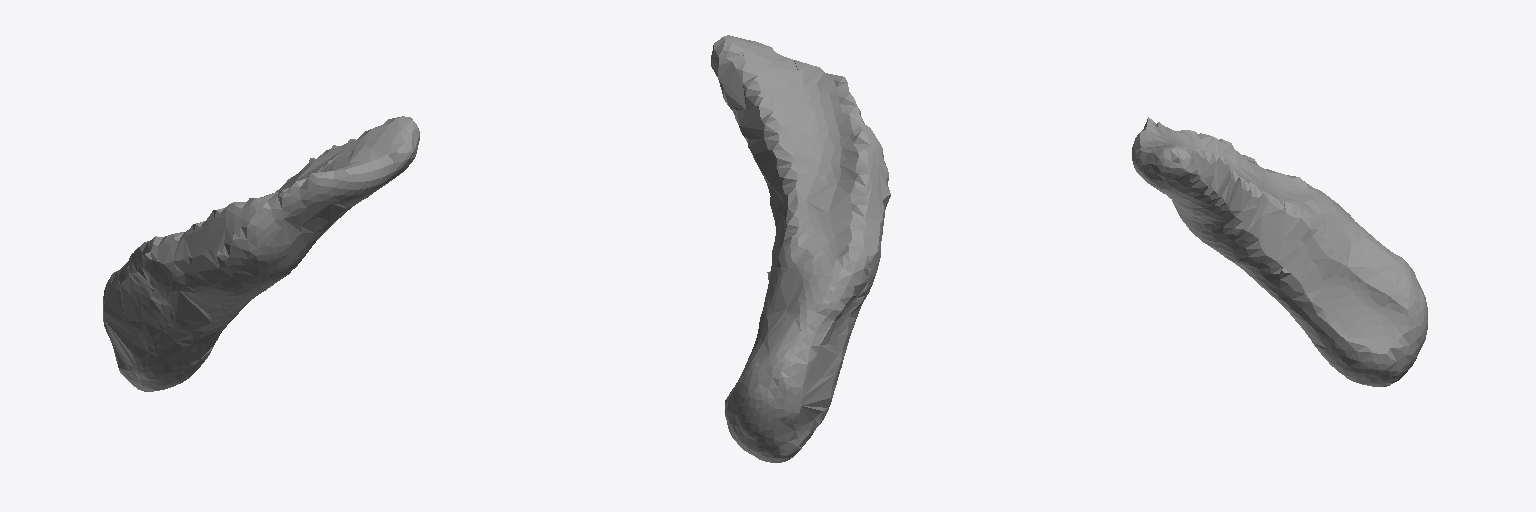
The model's file is Model_677_RH__Cuneate_fascicolus_(cu).obj.
3 renders of one model, left to right at view 1: azimuth 30°, elevation 25°; view 2: azimuth 150°, elevation 25°; view 3: azimuth 270°, elevation 25°, orthographic.
Bounding box in the file's own units: 2.22 × 3.08 × 2.68.